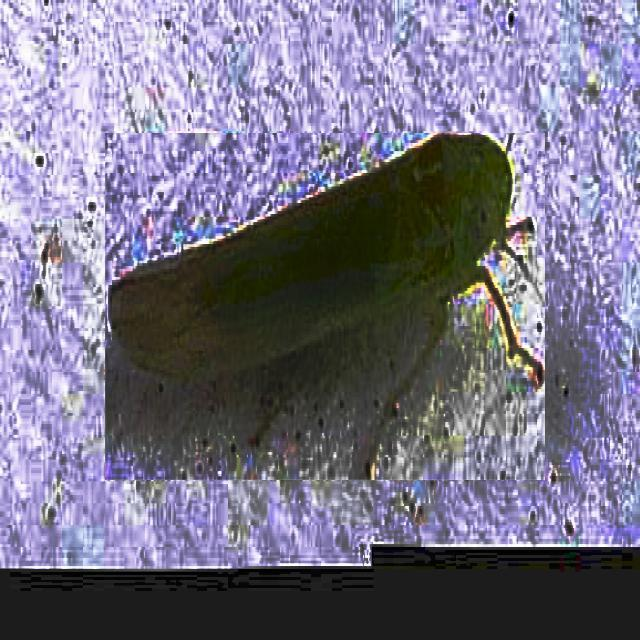green-leafhopper: (107, 134, 545, 479)
